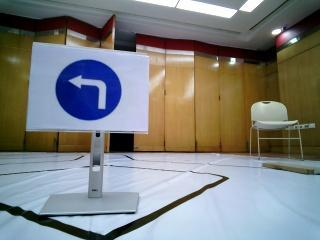left: (40, 49, 143, 125)
